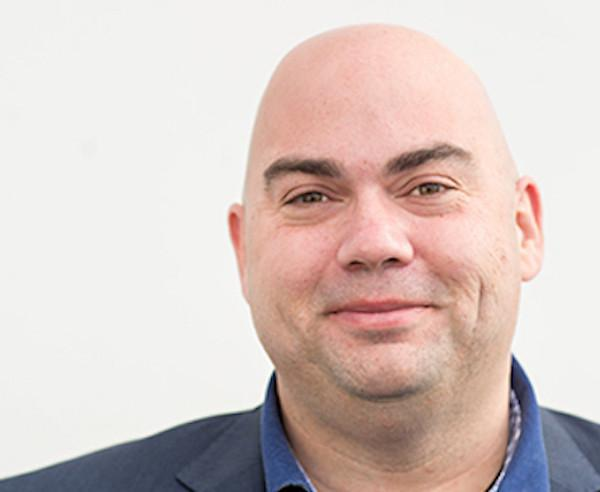Sober: (264, 85, 506, 375)
